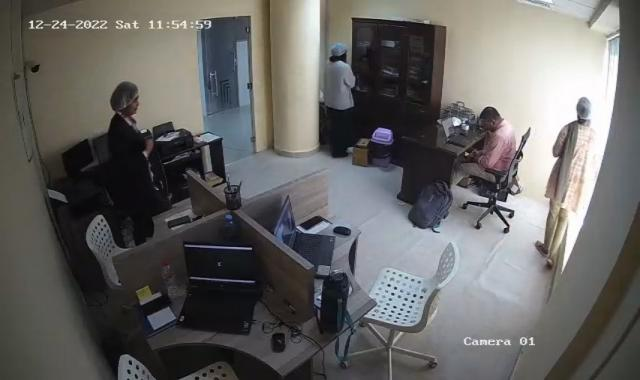hairnet: (110, 80, 139, 114), (576, 94, 594, 121), (330, 44, 349, 63)
no_hairnet: (478, 107, 501, 134)
